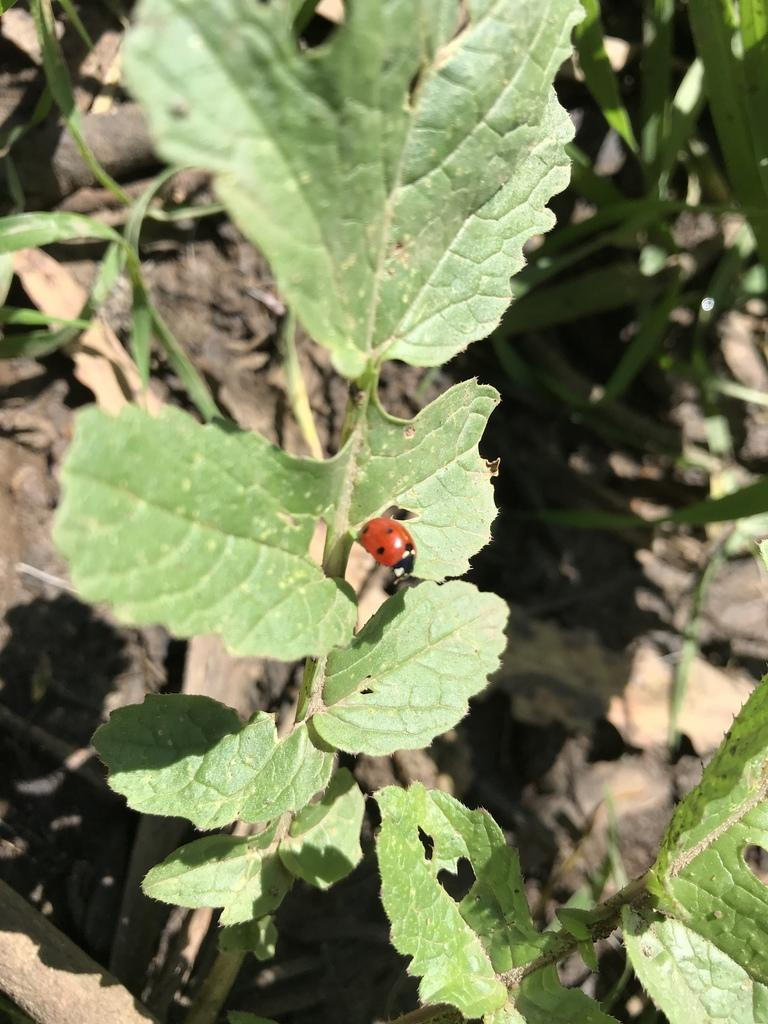ladybug: (359, 518, 418, 585)
